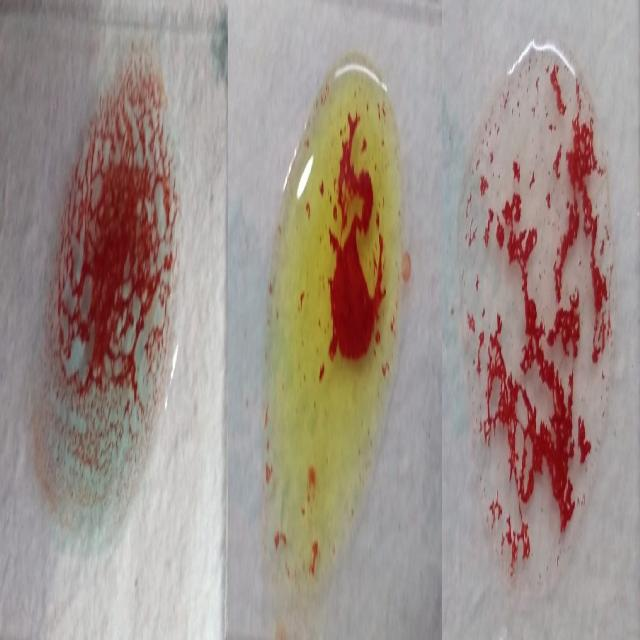A: (37, 54, 174, 528)
B: (268, 60, 402, 578)
D: (465, 49, 611, 586)
